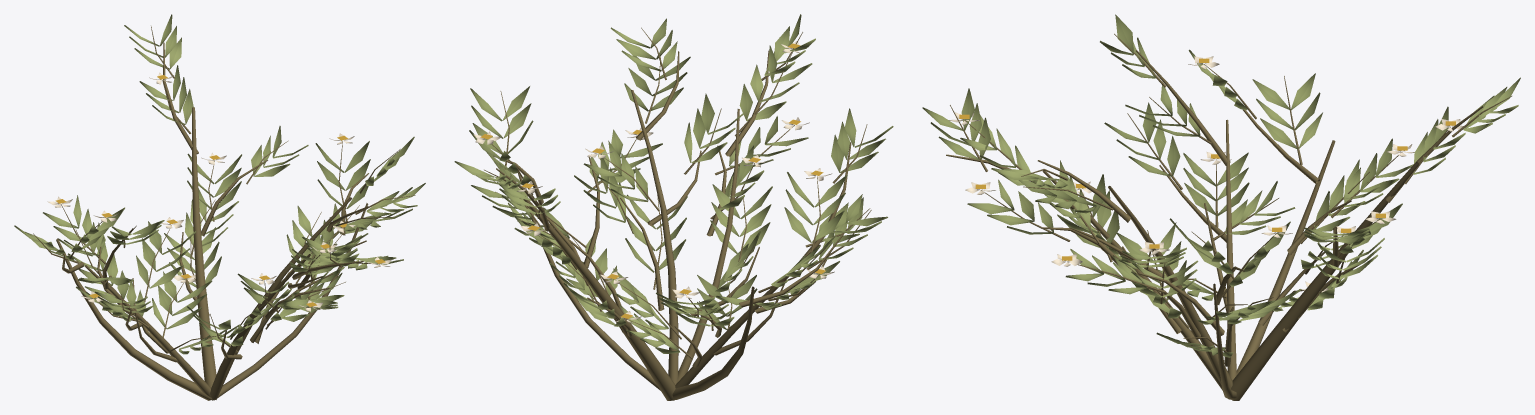
File: Ciste_0_Low.fbx
3 views of the same model, side by side, from view 1: azimuth 30°, elevation 25°; view 2: azimuth 150°, elevation 25°; view 3: azimuth 270°, elevation 25° (orthographic). The views are drawn at different scales.
Visible parts, largest first — view 1: Ciste_0_Low; view 2: Ciste_0_Low; view 3: Ciste_0_Low.
Boxes of the visible parts, left/top/right/bottom form: Ciste_0_Low: left=14, top=14, right=425, bottom=400; Ciste_0_Low: left=454, top=14, right=893, bottom=400; Ciste_0_Low: left=922, top=14, right=1520, bottom=400.
Size of the model in its own units: 115 by 87.01 by 139.
